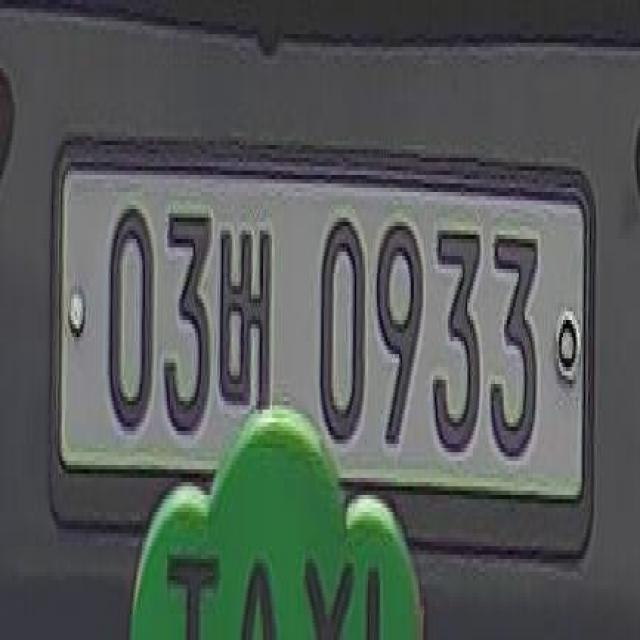illegal_plate: (60, 139, 598, 577)
